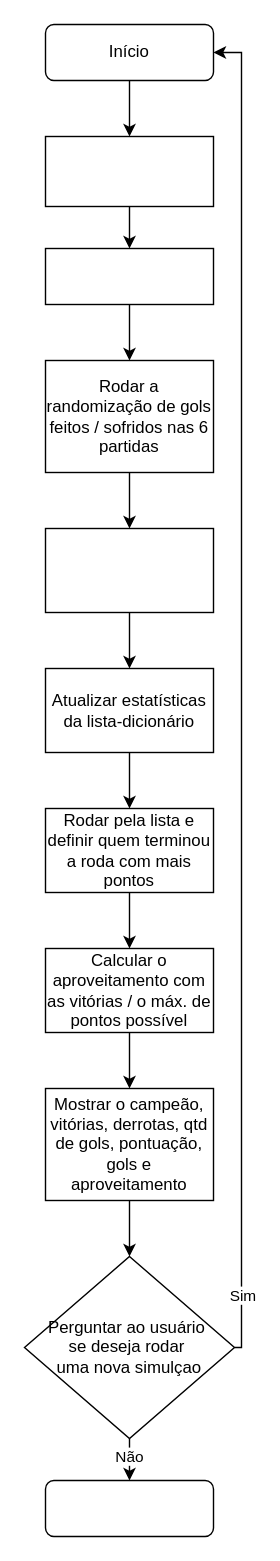
Image size: 280x1561. Some labels were removed from this diagram. Here are the shapes that lost their labels. From the top down, the centre of each, then its label:
At point (129, 170): "Criar dicionário com os times e as estatísticas zeradas".
At point (129, 275): "montar combinação com os 4times".
At point (129, 569): "Definir o resultado baseados nos gols da partida: derrota, empate ou vitória".
At point (129, 1507): "Fim".
